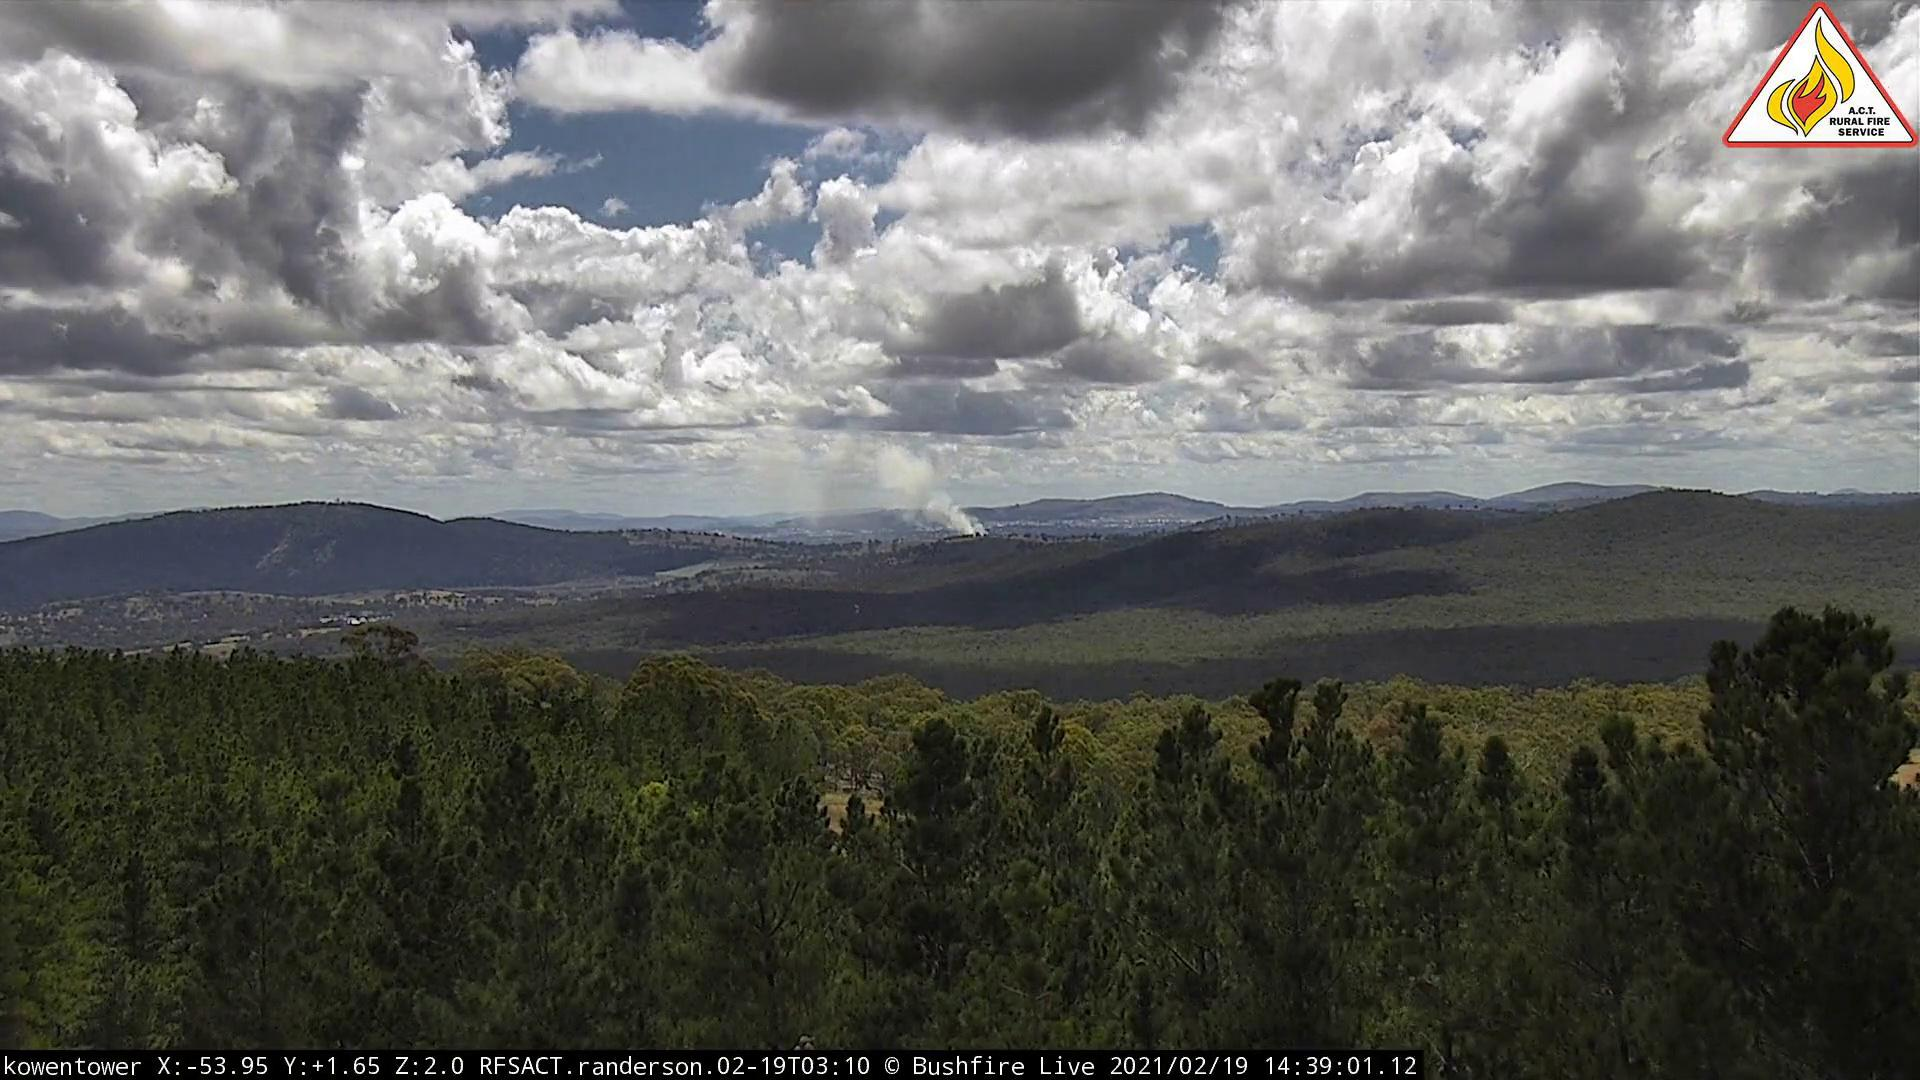instance_salient_object: (756, 431, 990, 549)
